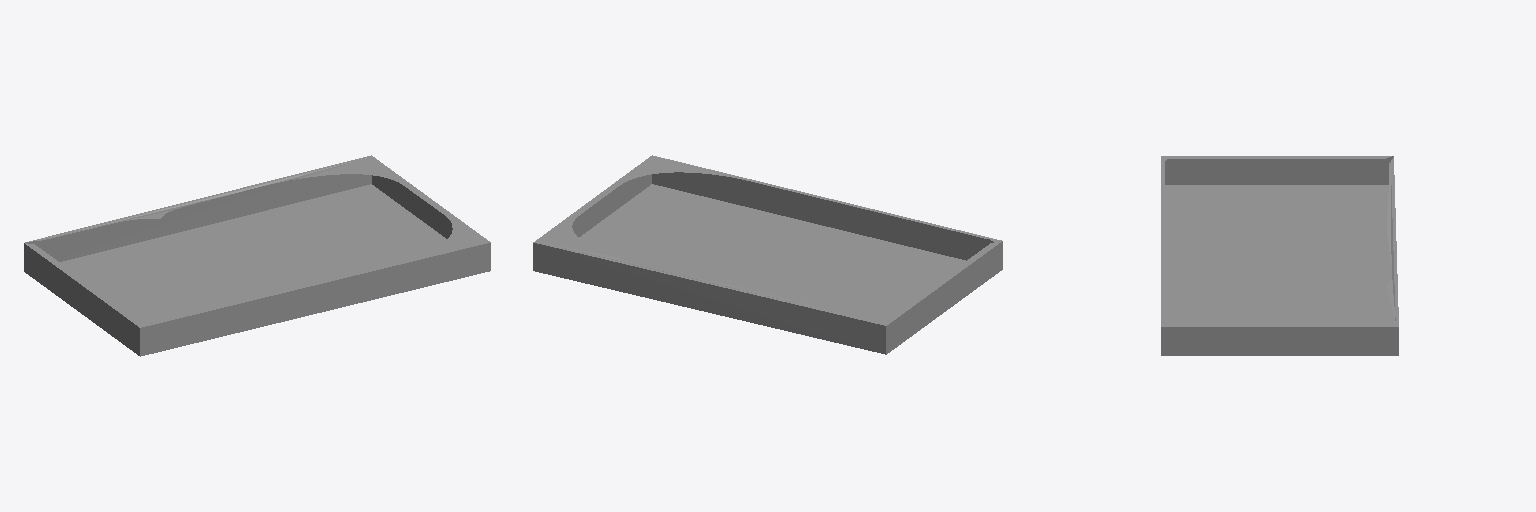
The model's file is pt_casing.obj.
The picture shows the model from 3 angles: view 1: azimuth 30°, elevation 25°; view 2: azimuth 150°, elevation 25°; view 3: azimuth 270°, elevation 25°; orthographic projection.
Visible parts, largest first — view 1: Board_Cube.006; view 2: Board_Cube.006; view 3: Board_Cube.006.
Boxes of the visible parts, <box> form: Board_Cube.006: <box>24,155,490,356</box>; Board_Cube.006: <box>533,155,1002,354</box>; Board_Cube.006: <box>1161,156,1398,355</box>.
Bounding box in the file's own units: 28.4 × 2.22 × 16.7.